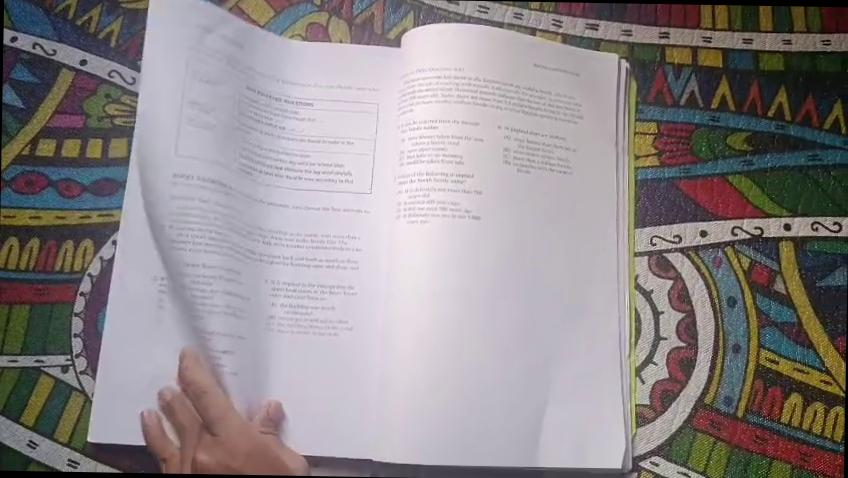Kertas: (116, 0, 399, 450), (383, 21, 630, 476)
